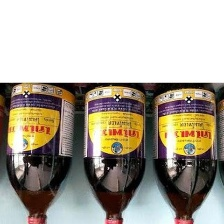insecticide: (3, 75, 76, 224), (148, 77, 221, 224), (80, 73, 148, 223)
